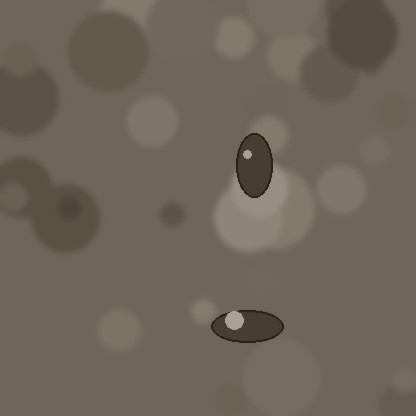gota: (236, 135, 272, 203), (211, 311, 283, 345)
